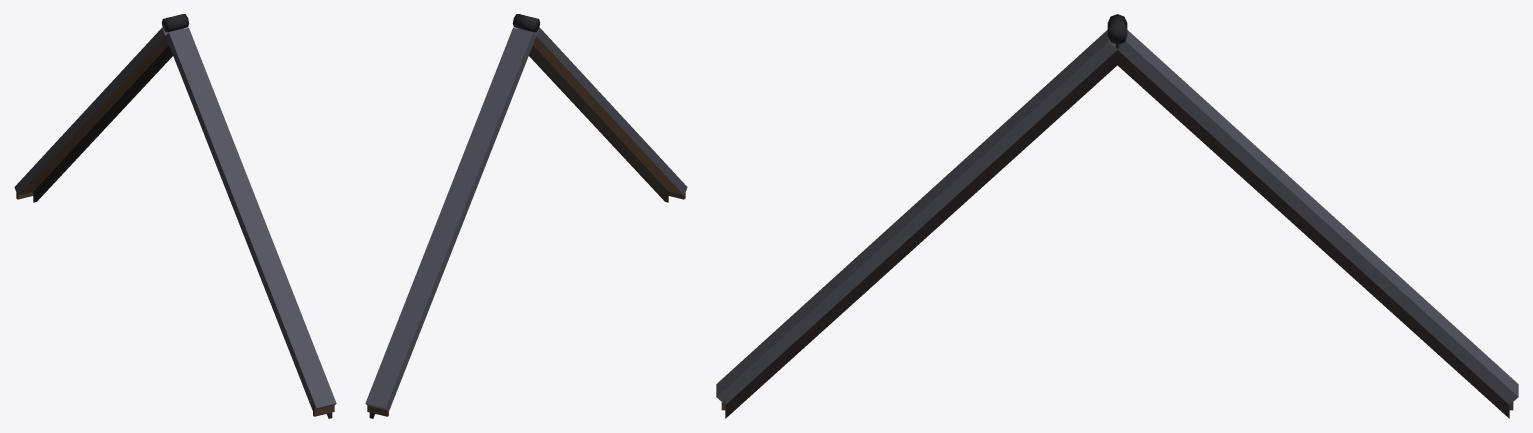
Rendered from kit_stone_slate_w5_end.glb.
3 renders of one model, left to right at view 1: azimuth 30°, elevation 25°; view 2: azimuth 150°, elevation 25°; view 3: azimuth 270°, elevation 25°, orthographic. The views are drawn at different scales.
Visible parts, largest first — view 1: kit_stone_slate_w5_end; view 2: kit_stone_slate_w5_end; view 3: kit_stone_slate_w5_end.
Part boxes in pixels (box(x1,y1,x2,y2)): kit_stone_slate_w5_end: box(14, 14, 336, 418); kit_stone_slate_w5_end: box(365, 14, 687, 418); kit_stone_slate_w5_end: box(716, 14, 1518, 418).
Size of the model in its own units: 0.22 by 3.09 by 5.73.
